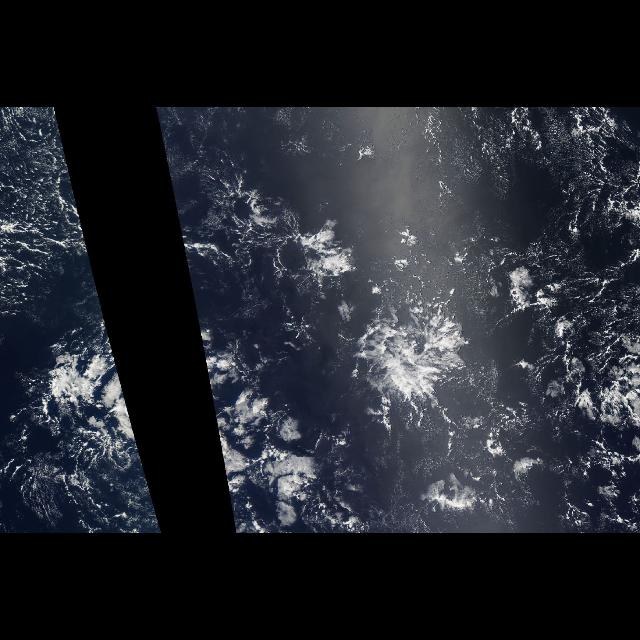Fish: (298, 230, 472, 420)
Gravel: (480, 319, 640, 533), (0, 108, 96, 328)
Sugar: (297, 235, 481, 411)
